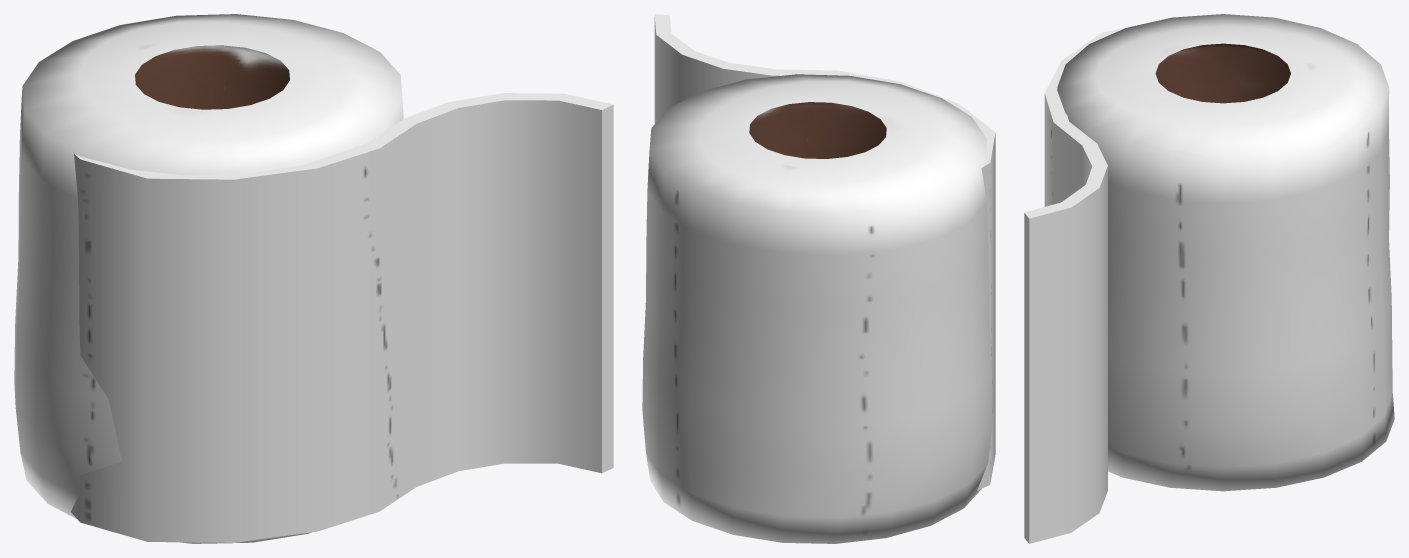
File: toiletpaper.fbx
3 views of the same model, side by side, from view 1: azimuth 30°, elevation 25°; view 2: azimuth 150°, elevation 25°; view 3: azimuth 270°, elevation 25° (orthographic). The views are drawn at different scales.
Parts seen in each view (by area): view 1: pCube2; view 2: pCube2; view 3: pCube2.
Part boxes in pixels (<box>): pCube2: <box>14,14,613,543</box>; pCube2: <box>642,14,995,543</box>; pCube2: <box>1024,14,1394,543</box>.
Bounding box in the file's own units: 7.92 × 6.39 × 6.05.
Materials: 1 (1 with a texture image).
